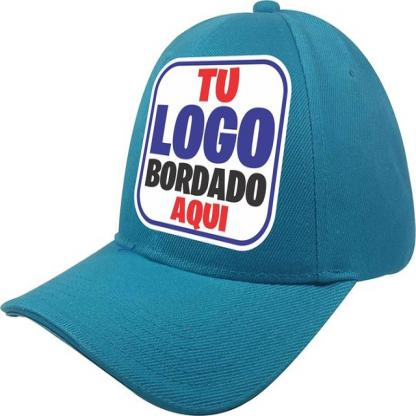cap: (8, 11, 410, 413)
